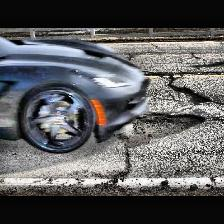pothole: (114, 111, 206, 147), (174, 85, 210, 103)
